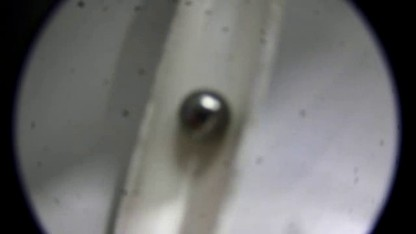gangzhu: (174, 83, 233, 144)
